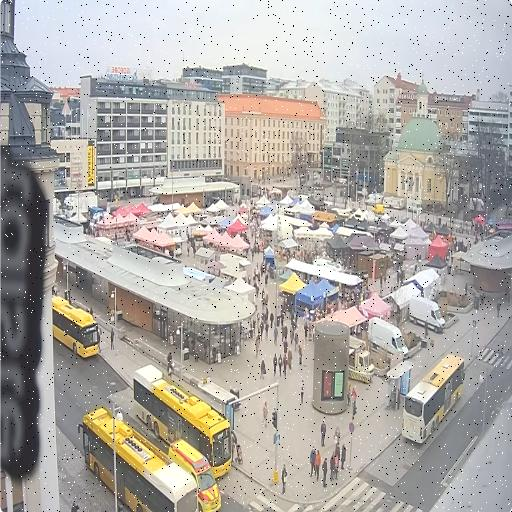bus: (77, 408, 197, 511), (132, 365, 231, 478), (401, 354, 464, 444), (51, 297, 97, 358)
delivery: (368, 318, 407, 358), (408, 297, 444, 332), (348, 336, 373, 383)
